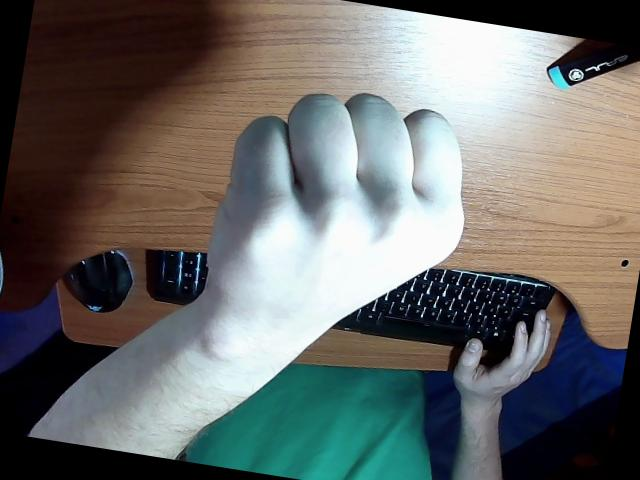rock: (208, 94, 464, 338)
